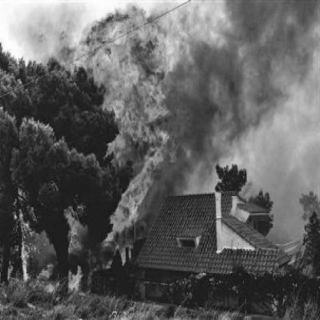Fire: (17, 6, 177, 296)
Smoke: (180, 12, 303, 164)
